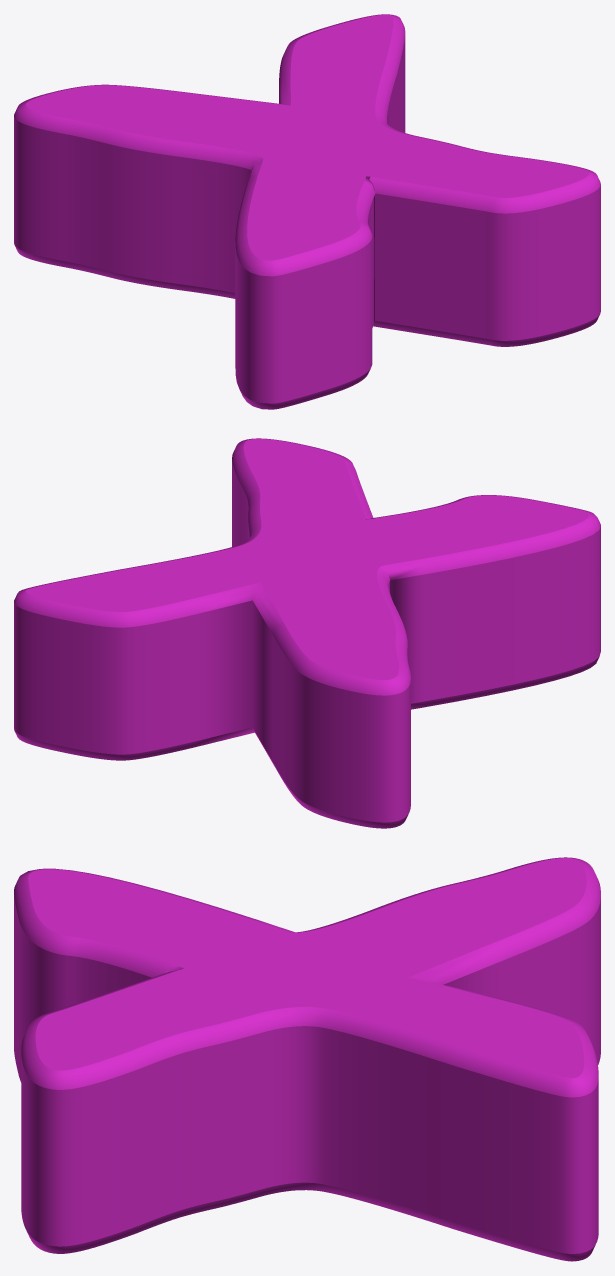
The model's file is Bubble_Letter_x.fbx.
The picture shows the model from 3 angles, top to bottom: view 1: azimuth 30°, elevation 25°; view 2: azimuth 150°, elevation 25°; view 3: azimuth 270°, elevation 25°; orthographic projection. The views are drawn at different scales.
Parts seen in each view (by area): view 1: BubbleLetter_x; view 2: BubbleLetter_x; view 3: BubbleLetter_x.
Part boxes in pixels (x1,y1,x2,y2): BubbleLetter_x: (14,14,600,409); BubbleLetter_x: (14,438,600,828); BubbleLetter_x: (14,857,600,1261).
Bounding box in the file's own units: 0.3823 × 0.14 × 0.4077.
